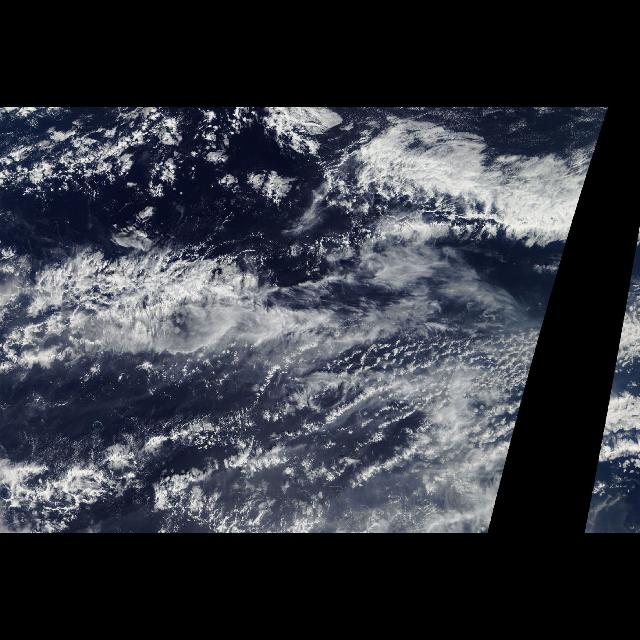Fish: (8, 111, 600, 529)
